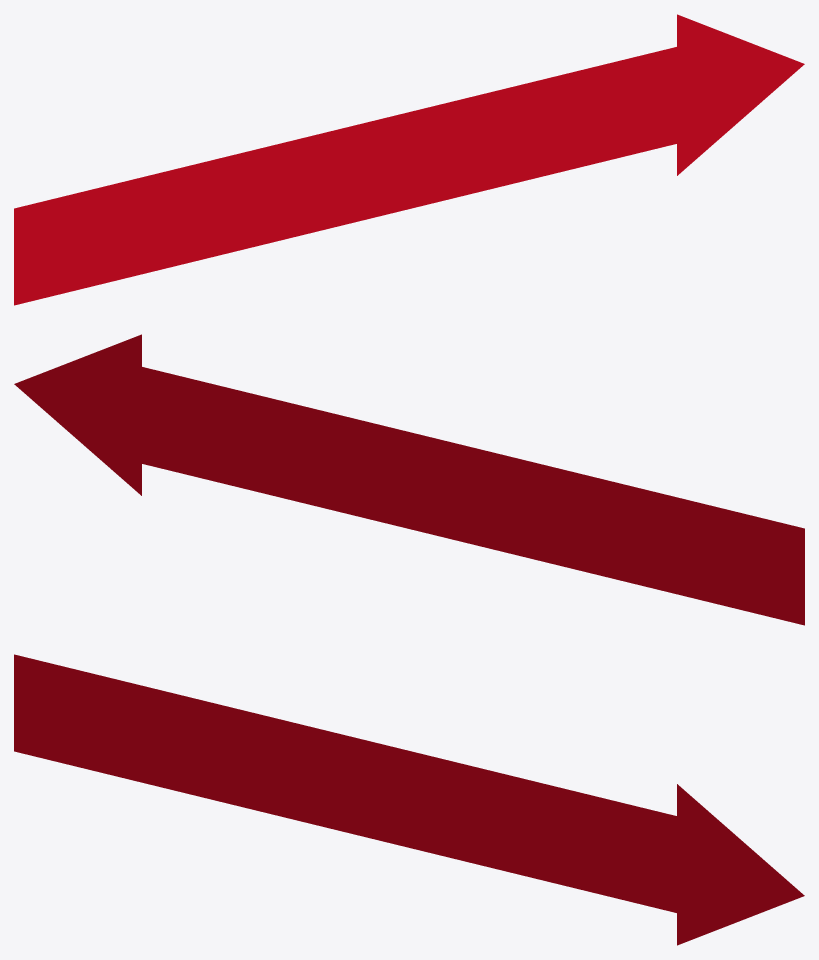
Rendered from Flecha.fbx.
3 views of the same model, one above another, from view 1: azimuth 30°, elevation 25°; view 2: azimuth 150°, elevation 25°; view 3: azimuth 330°, elevation 25° (orthographic).
Parts seen in each view (by area): view 1: Plano; view 2: Plano; view 3: Plano.
Part boxes in pixels (x1,y1,x2,y2): Plano: (14,14,804,305); Plano: (14,334,804,625); Plano: (14,654,804,945).
Size of the model in its own units: 492 by 96.06 by 4.2e-06.
